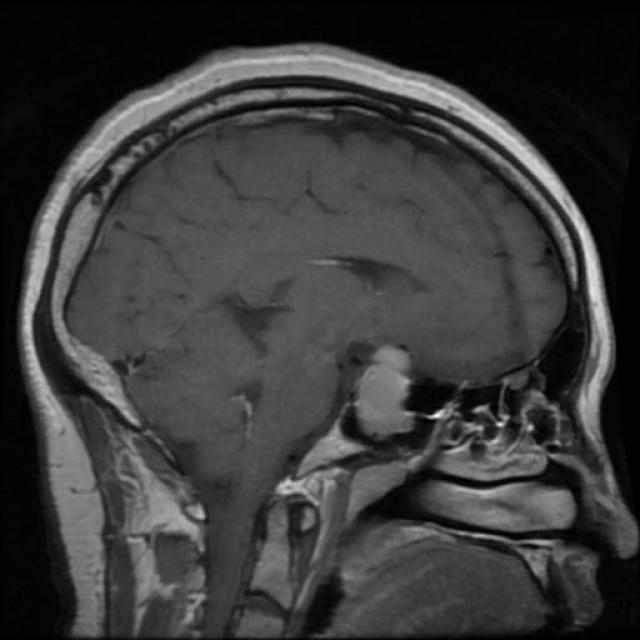brain_tumor: (346, 345, 418, 442)
